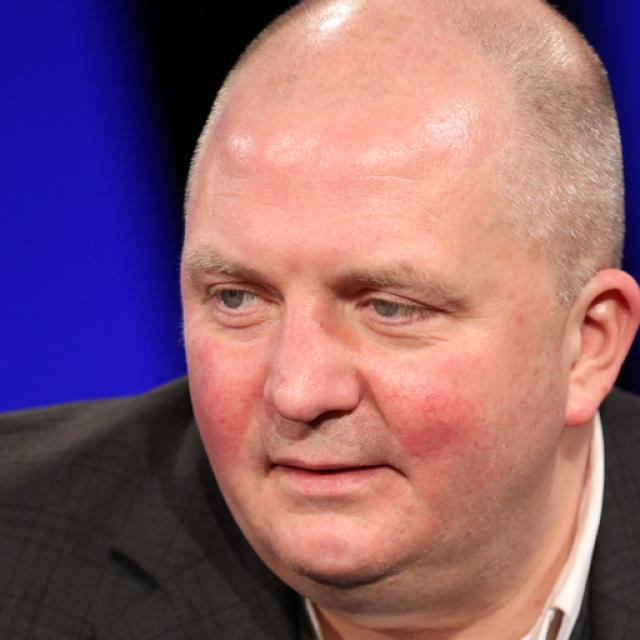Pigmentation: (187, 335, 260, 468), (395, 380, 489, 476)
